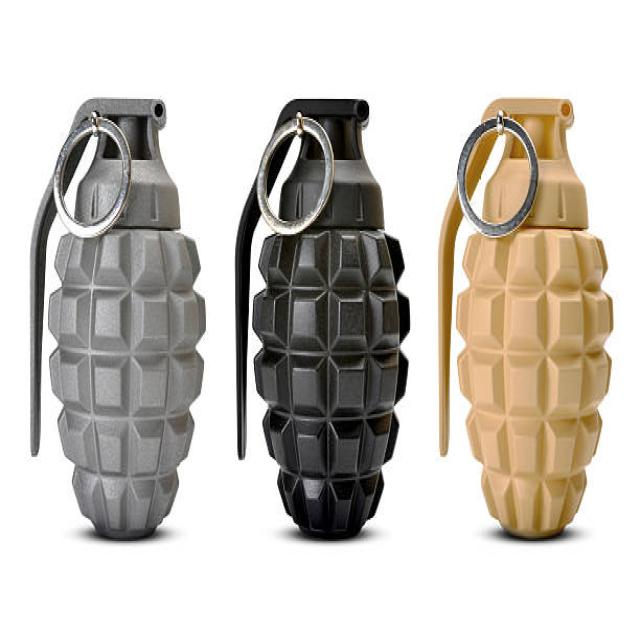grenade: (21, 94, 211, 547), (436, 92, 619, 549), (235, 93, 415, 552)
